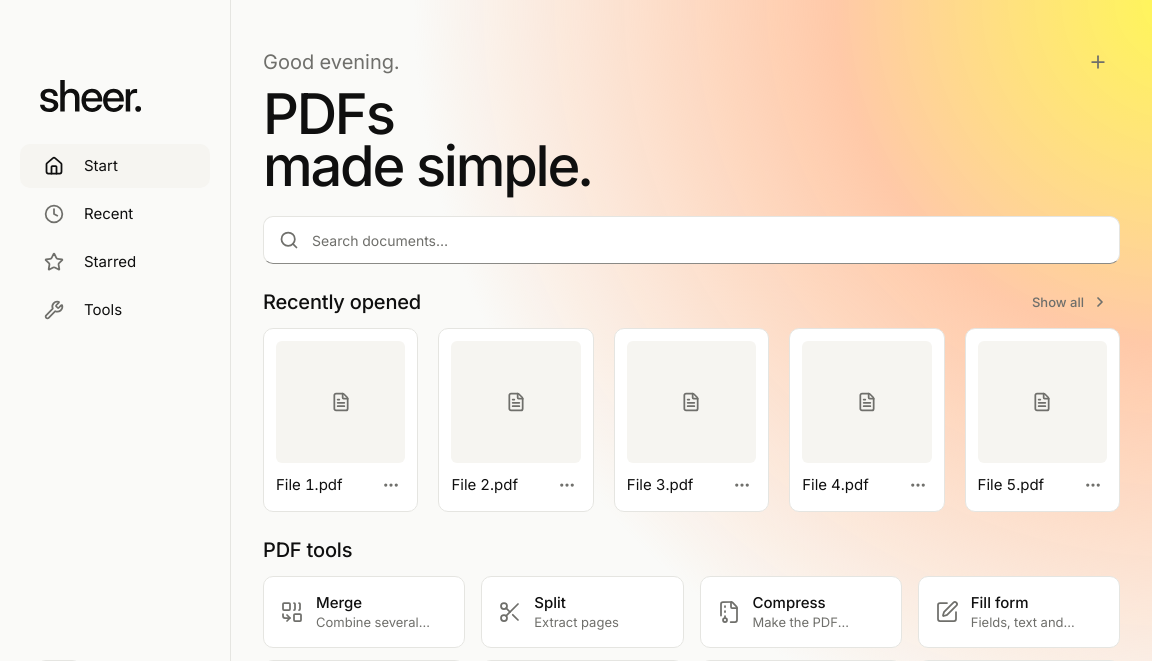
Test: Home › shows one row of five recent cards; Show all leads to the Recent view
Check: the button "File 1.pdf" is shown, box [264, 329, 417, 511]
Check: the number of buttons "File 1.pdf" is 5, box [264, 329, 417, 511]; [439, 329, 593, 511]; [615, 329, 768, 511]; [790, 329, 944, 511]; [966, 329, 1119, 511]
Step 1. Click the button "Show all" → (1070,302), box [1020, 288, 1120, 316]
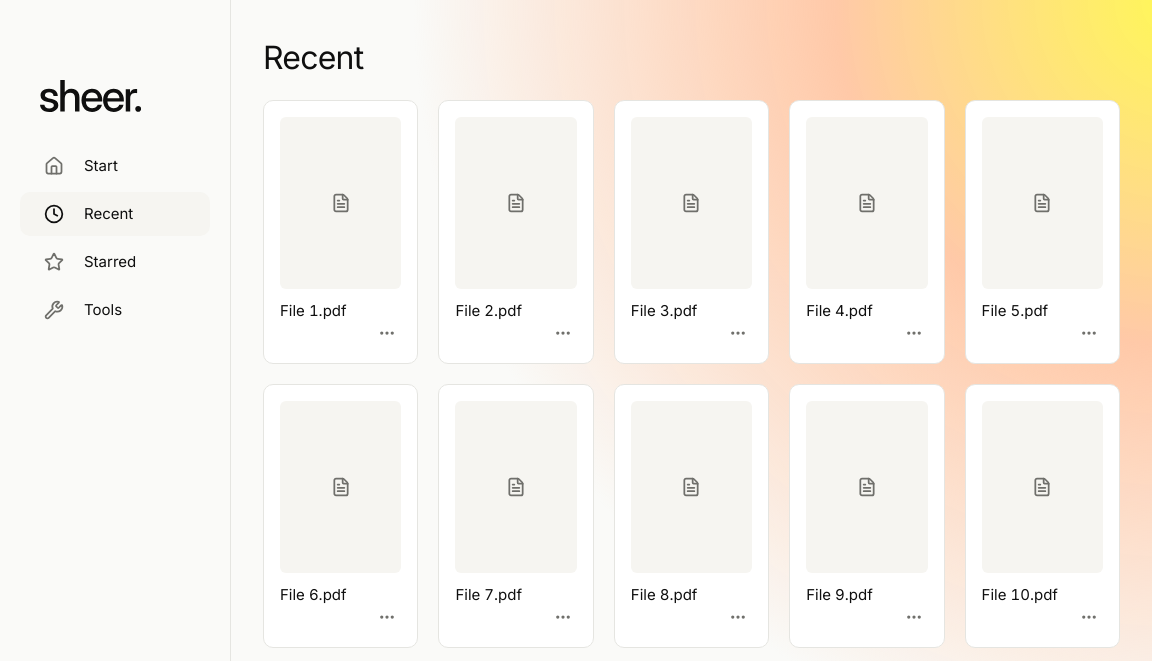
Check: the heading "Recent" is shown, box [263, 38, 363, 77]
Check: the number of buttons "File 1.pdf" is 13
